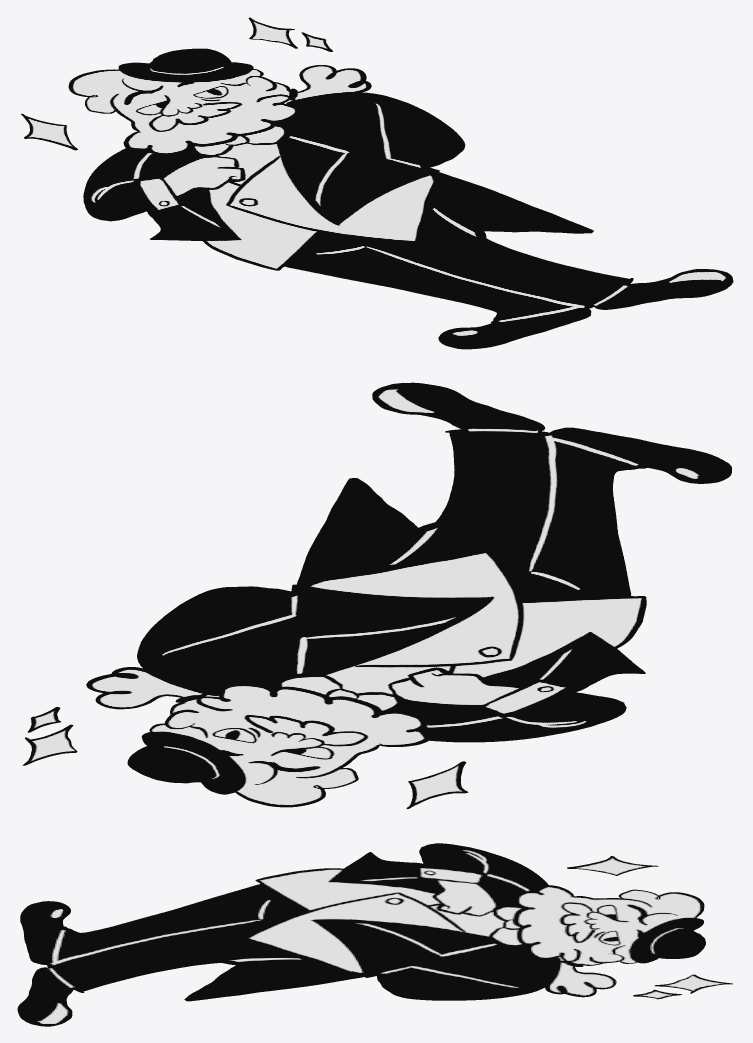
File: Dead 1.fbx
The picture shows the model from 3 angles, top to bottom: view 1: azimuth 30°, elevation 25°; view 2: azimuth 150°, elevation 25°; view 3: azimuth 270°, elevation 25°; orthographic projection. The views are drawn at different scales.
Visible parts, largest first — view 1: Curve.002; view 2: Curve.002; view 3: Curve.002.
Part boxes in pixels (left/top/right/bottom): Curve.002: left=21, top=17, right=733, bottom=349; Curve.002: left=22, top=382, right=731, bottom=808; Curve.002: left=17, top=843, right=732, bottom=1026.
Size of the model in its own units: 16.06 by 0 by 26.22.
